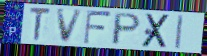F: (82, 8, 113, 46)
I: (174, 14, 185, 51)
P: (110, 12, 143, 47)
T: (28, 6, 52, 43)
V: (55, 8, 85, 44)
X: (140, 12, 173, 49)
